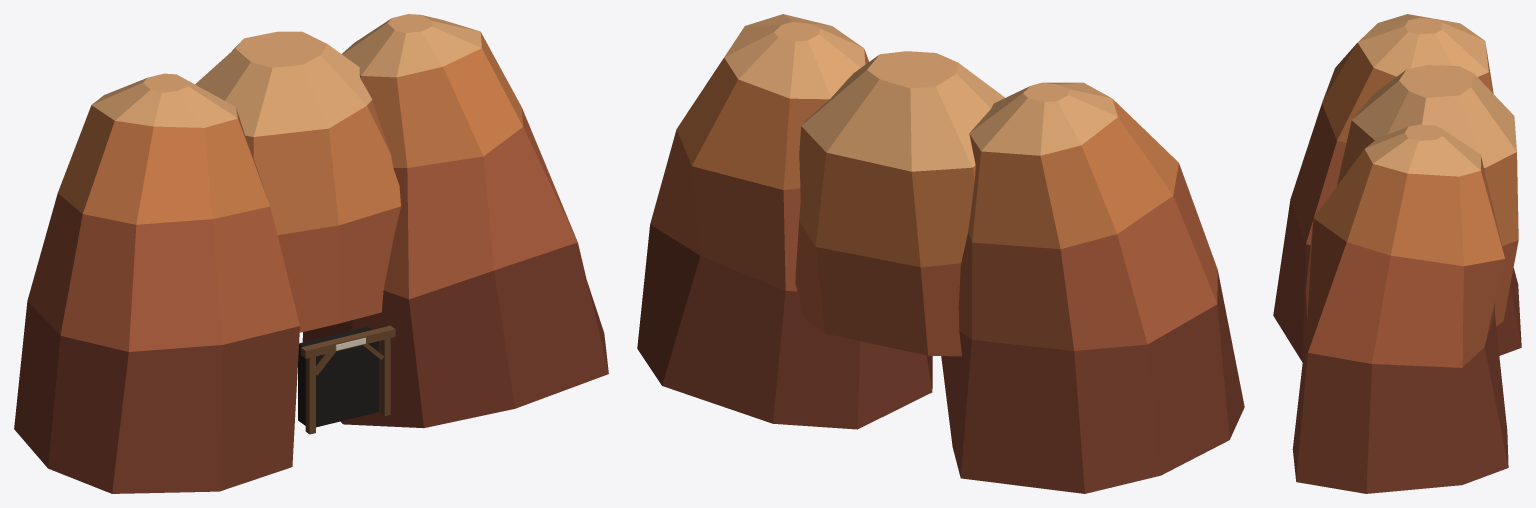
File: SM_TunnelPortal.fbx
3 views of the same model, side by side, from view 1: azimuth 30°, elevation 25°; view 2: azimuth 150°, elevation 25°; view 3: azimuth 270°, elevation 25° (orthographic). The views are drawn at different scales.
Visible parts, largest first — view 1: TunnelPortal; view 2: TunnelPortal; view 3: TunnelPortal.
Part boxes in pixels (x1=…): TunnelPortal: x1=14, y1=14, x2=608, y2=493; TunnelPortal: x1=637, y1=14, x2=1244, y2=493; TunnelPortal: x1=1273, y1=14, x2=1521, y2=493.
Size of the model in its own units: 4450 by 1932 by 2705.
